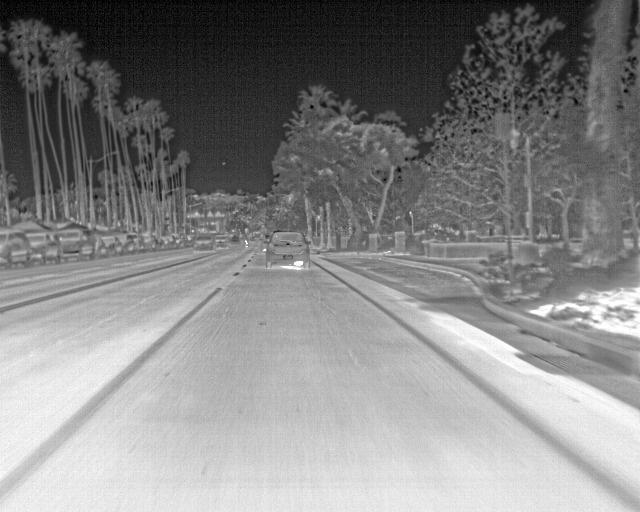bicycle: (267, 229, 312, 264), (0, 229, 32, 269), (27, 232, 63, 264), (58, 228, 95, 259), (100, 234, 123, 256), (193, 233, 212, 251), (141, 232, 157, 250), (168, 234, 184, 248), (214, 234, 229, 247)
